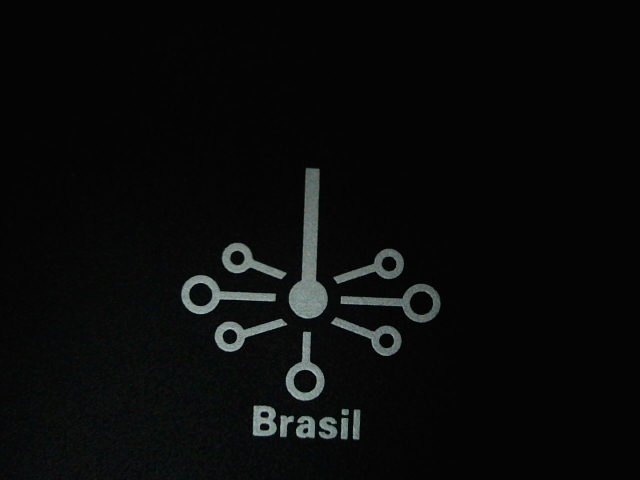BG_Brasil: (163, 141, 459, 456)
